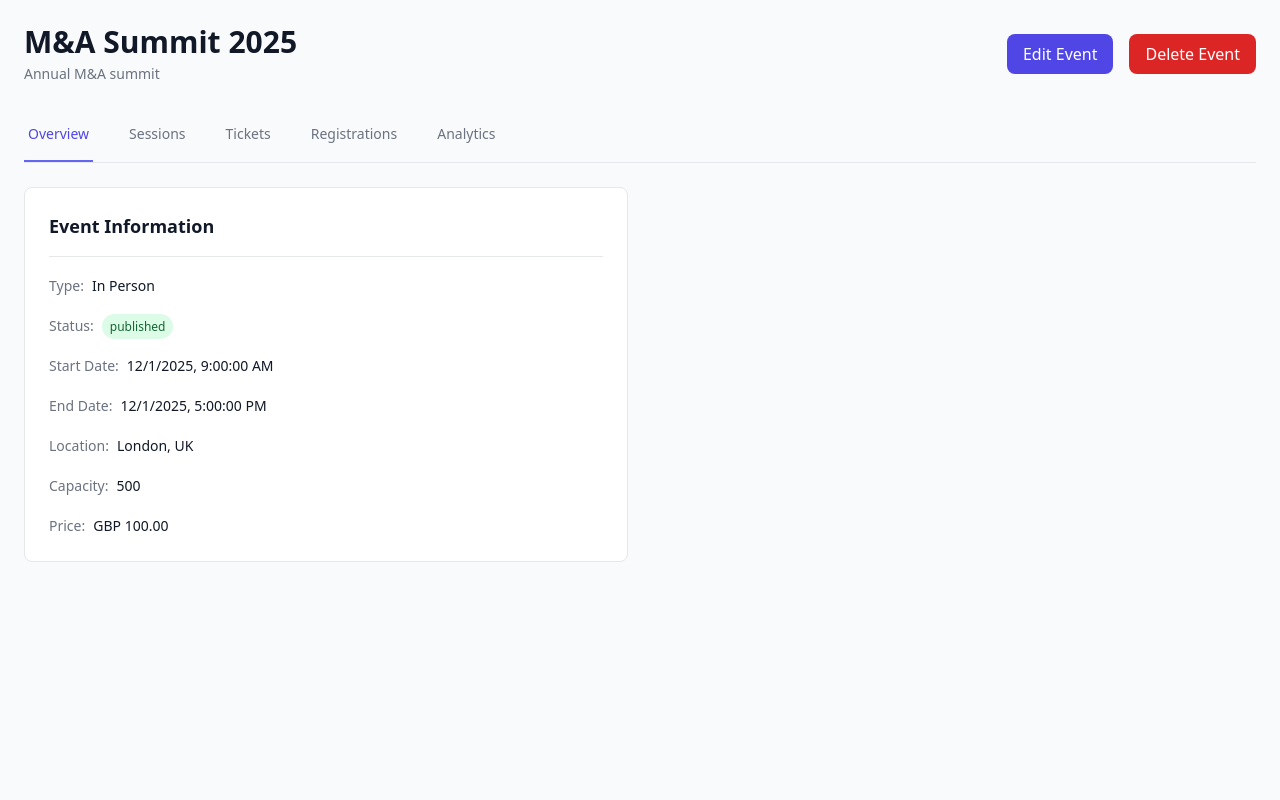
EventDetails › should load and display registrations when registrations tab clicked
Expected: the heading "M&A Summit 2025" is shown, [24, 24, 297, 60]
// Click registrations tab
Click the button "Registrations".
click(354, 135)  # box [307, 108, 401, 162]
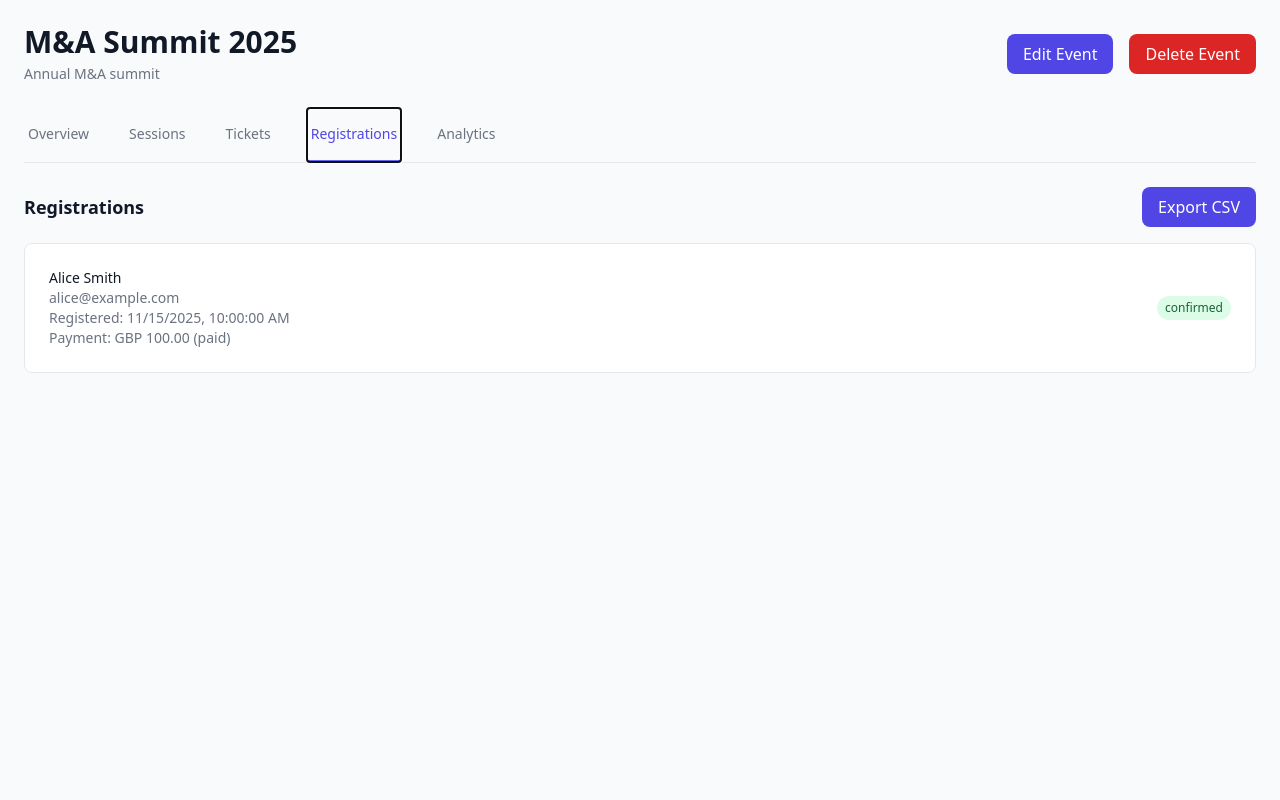
Now the text "Alice Smith" is shown, box [49, 268, 122, 287]
Now the text "alice@example.com" is shown, box [49, 288, 179, 307]
